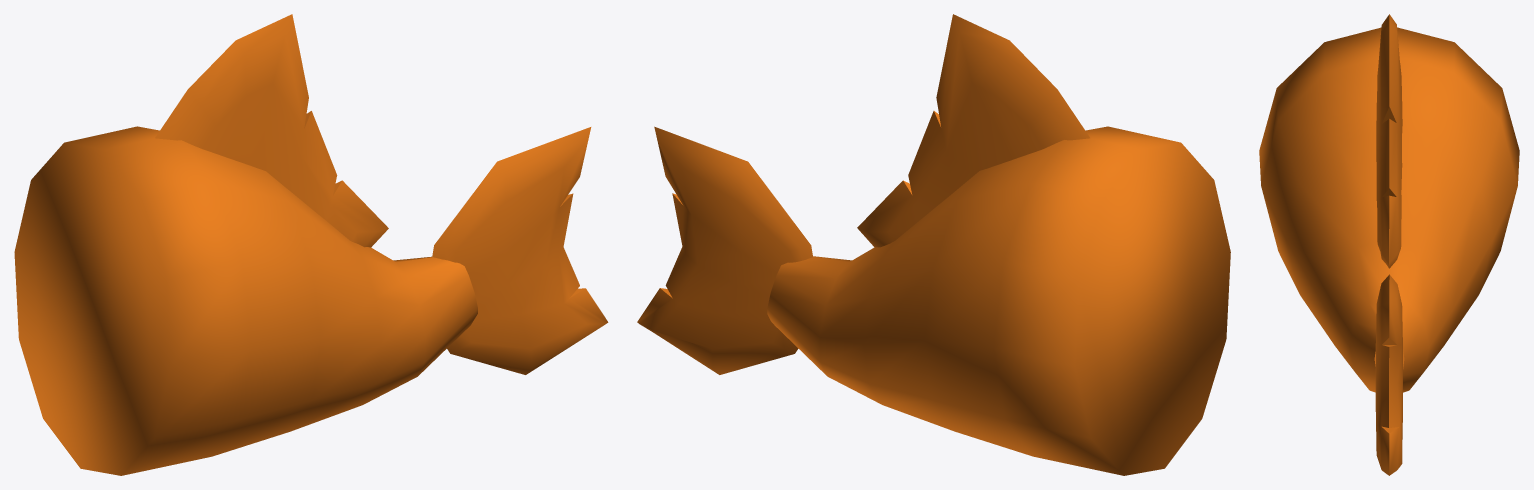
File: GiantTuna.fbx
3 views of the same model, side by side, from view 1: azimuth 30°, elevation 25°; view 2: azimuth 150°, elevation 25°; view 3: azimuth 270°, elevation 25° (orthographic). The views are drawn at different scales.
Visible parts, largest first — view 1: GiantTuna; view 2: GiantTuna; view 3: GiantTuna.
Part boxes in pixels (left/top/right/bottom): GiantTuna: left=14, top=14, right=608, bottom=475; GiantTuna: left=637, top=14, right=1230, bottom=475; GiantTuna: left=1259, top=14, right=1519, bottom=475.
Size of the model in its own units: 107 by 81.29 by 55.11.
